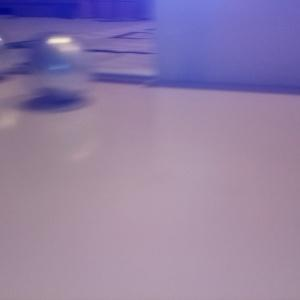alive_ball: (29, 31, 91, 100), (1, 34, 6, 70)
